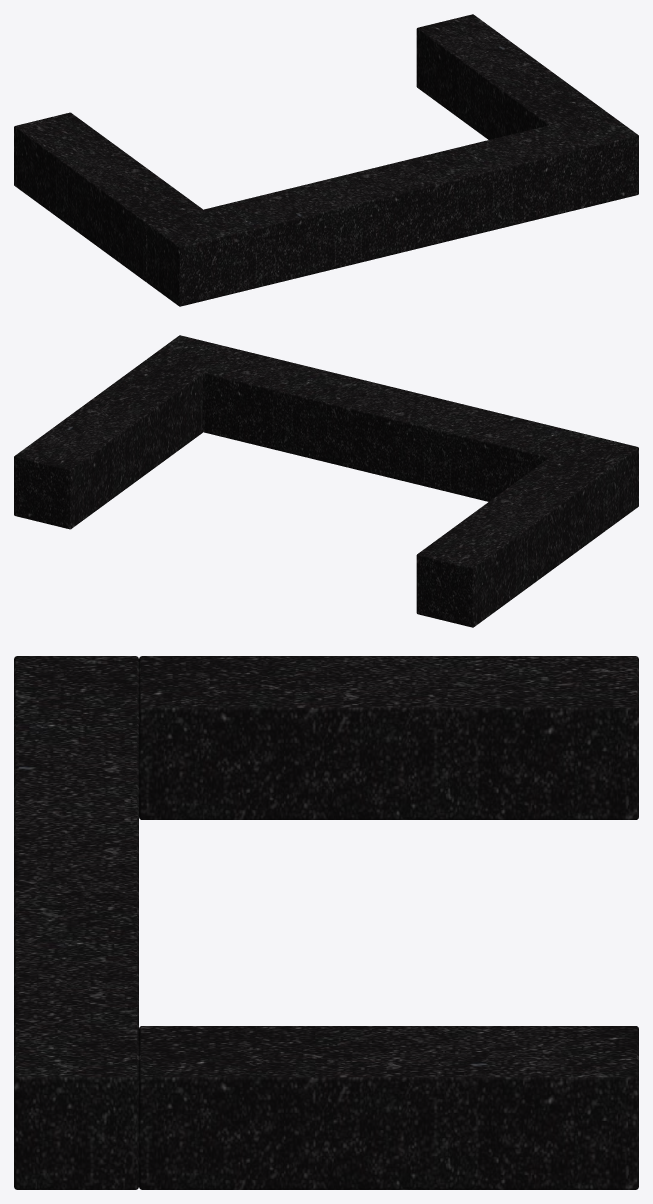
File: Frame 80 x 40 x 10.gltf
3 views of the same model, one above another, from view 1: azimuth 30°, elevation 25°; view 2: azimuth 150°, elevation 25°; view 3: azimuth 270°, elevation 25° (orthographic). The views are drawn at different scales.
Visible parts, largest first — view 1: Cube.048; view 2: Cube.048; view 3: Cube.048.
Part boxes in pixels (x1,y1,x2,y2): Cube.048: (14,14,638,306); Cube.048: (14,335,638,627); Cube.048: (14,656,638,1189).
Size of the model in its own units: 0.8 by 0.1 by 0.5.
1 material, 1 textured.
